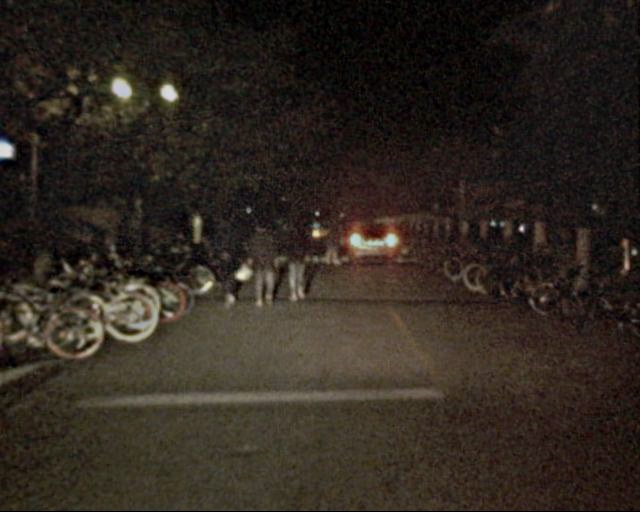person: (212, 214, 245, 312), (250, 221, 279, 311), (285, 214, 310, 301), (325, 221, 345, 269)
